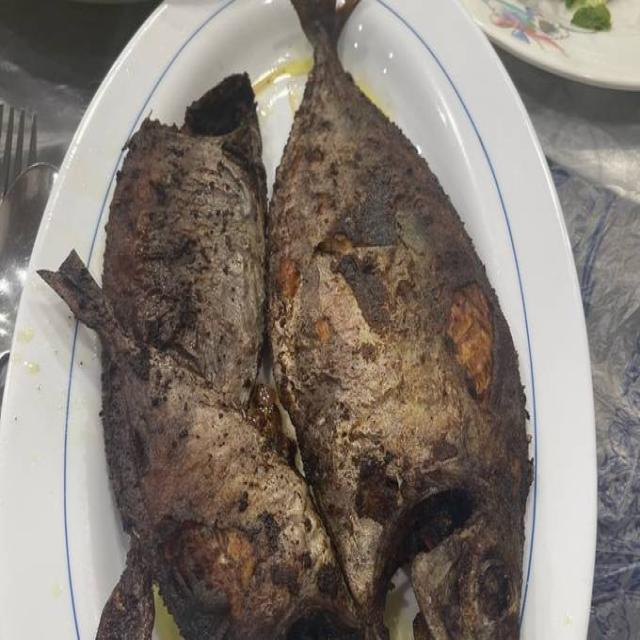Peixe: (35, 0, 535, 639)
